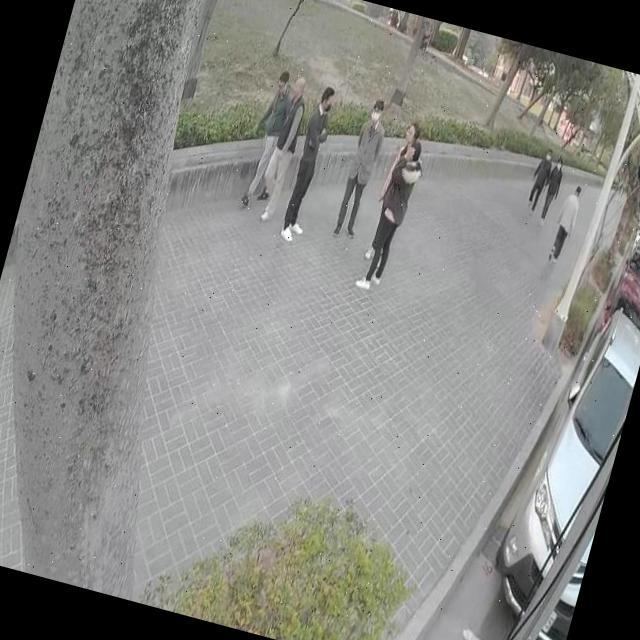person: (348, 128, 432, 305), (248, 67, 318, 226), (360, 114, 431, 270), (229, 59, 301, 212), (279, 82, 339, 238), (332, 97, 391, 241), (544, 179, 589, 267), (535, 152, 570, 228), (523, 141, 557, 209)
